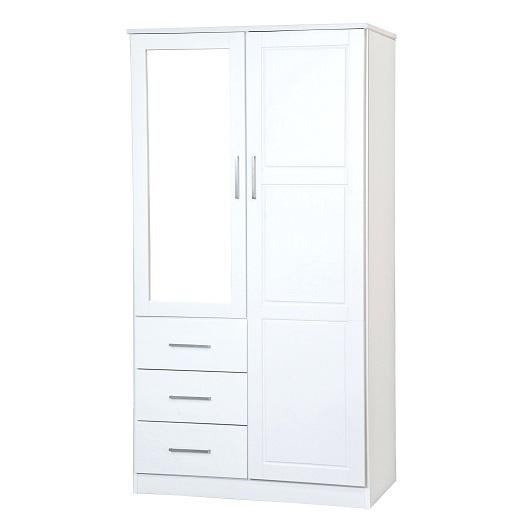cabinet_door: (253, 23, 369, 485), (141, 37, 248, 320), (139, 427, 250, 479), (140, 375, 249, 425), (140, 322, 249, 372)
handle: (166, 391, 213, 407), (166, 339, 212, 355), (166, 443, 212, 458), (250, 154, 261, 204), (232, 154, 242, 203)
